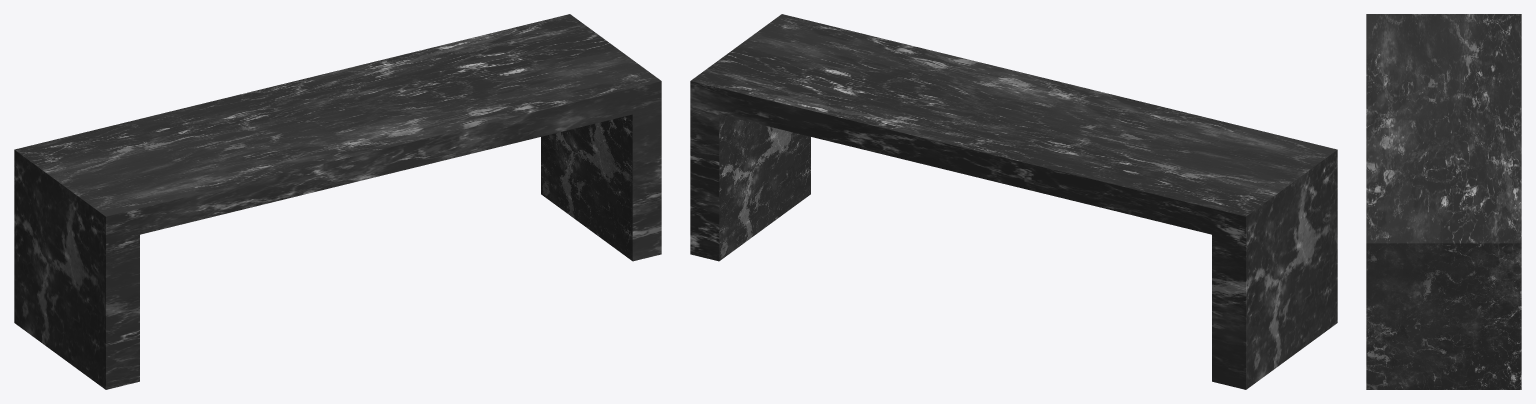
File: bench-dark.gltf
3 renders of one model, left to right at view 1: azimuth 30°, elevation 25°; view 2: azimuth 150°, elevation 25°; view 3: azimuth 270°, elevation 25°, orthographic. The views are drawn at different scales.
Parts seen in each view (by area): view 1: Cube.001; view 2: Cube.001; view 3: Cube.001.
Boxes of the visible parts, box(x1,y1,x2,y2) form: Cube.001: box(14, 14, 661, 389); Cube.001: box(690, 14, 1337, 389); Cube.001: box(1366, 14, 1521, 389).
Bounding box in the file's own units: 1.4 × 0.417 × 0.4.
1 material, 1 textured.
